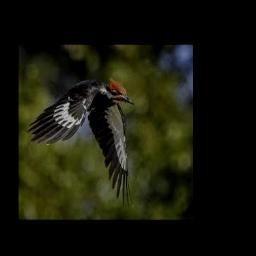Woodpecker: (27, 77, 134, 208)
